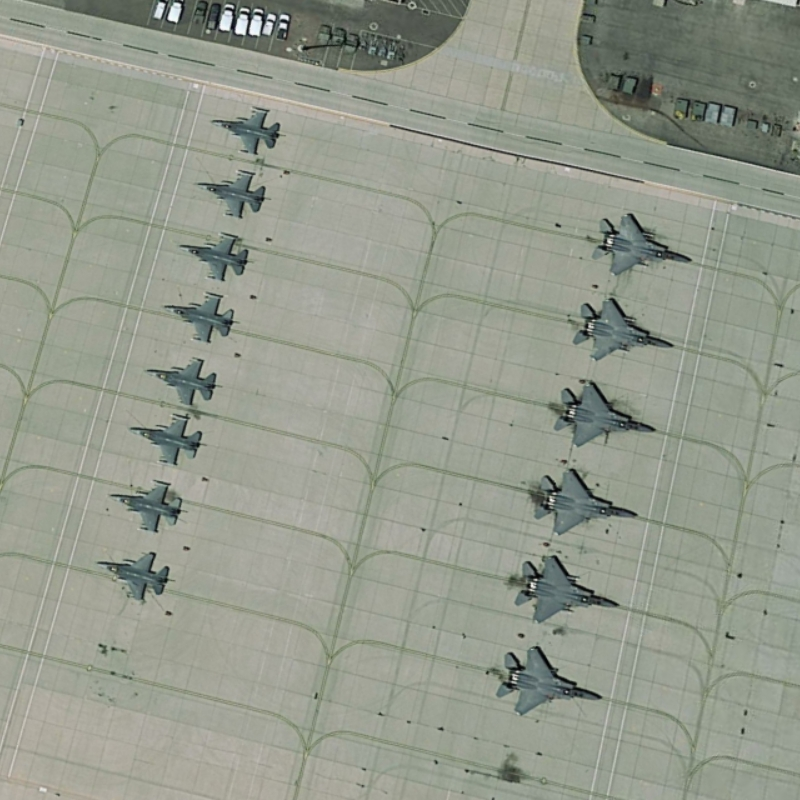A13: (505, 550, 624, 628), (487, 642, 606, 718), (561, 289, 677, 365), (547, 373, 659, 450), (528, 462, 640, 539), (588, 205, 696, 281)
A5: (94, 543, 176, 608), (120, 408, 210, 467), (158, 286, 239, 349), (105, 474, 186, 537), (192, 164, 272, 223), (207, 101, 284, 162), (175, 226, 254, 283), (143, 354, 221, 410)
